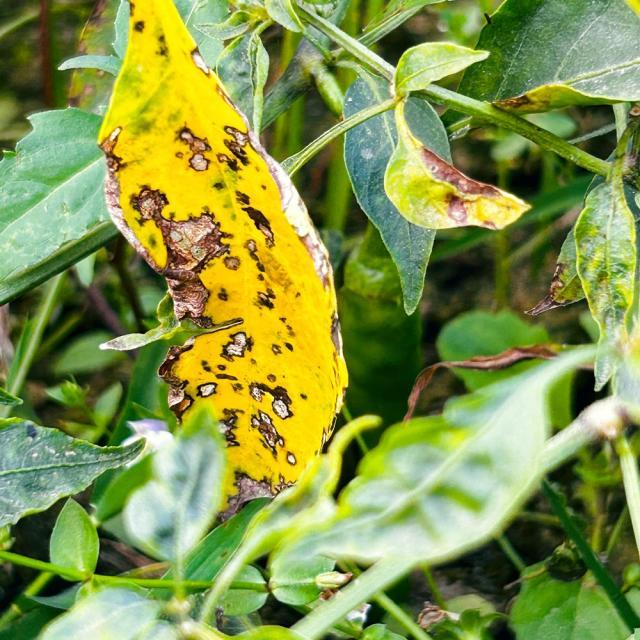Bercak Daun Serkospora: (93, 0, 350, 504)
